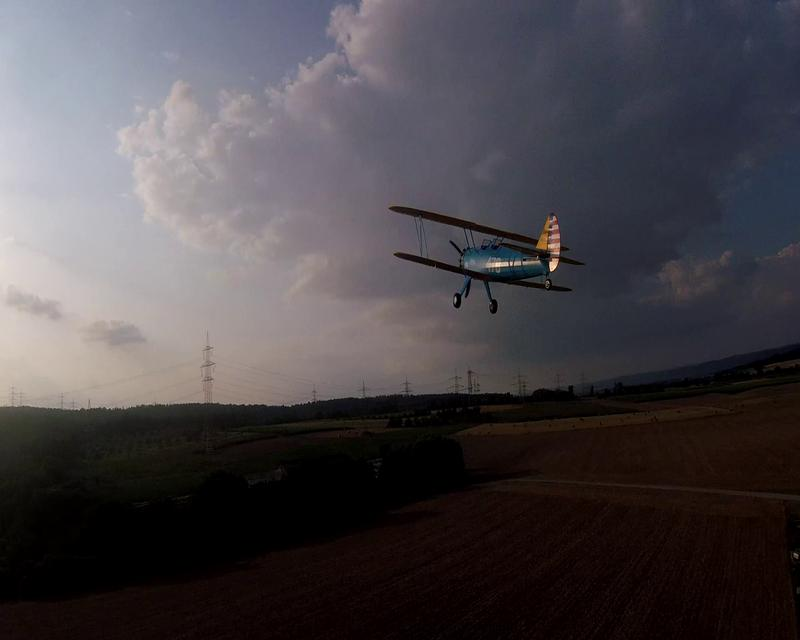UAV: (389, 205, 586, 314)
